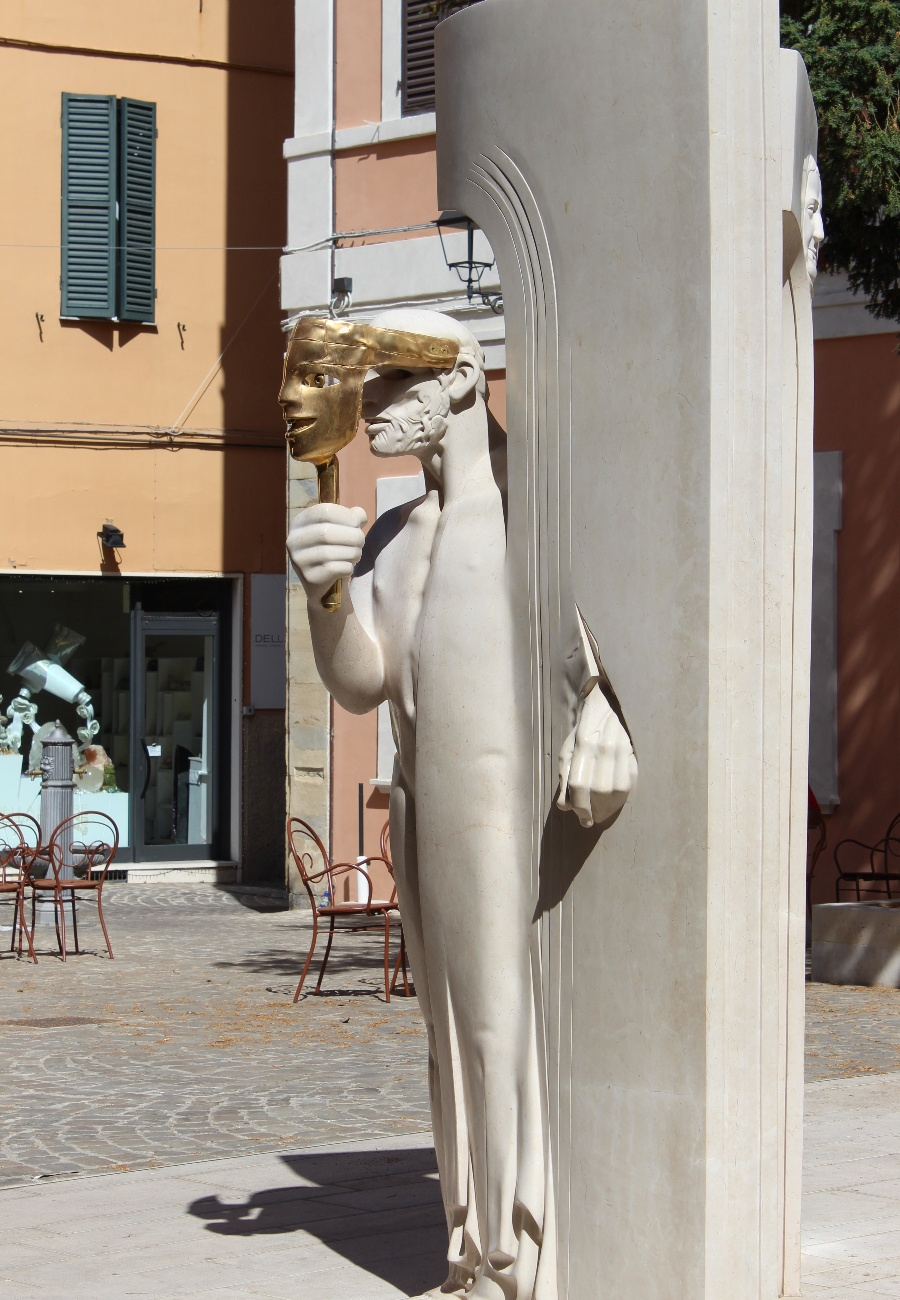Scultura della Memoria: (284, 311, 644, 1300)
